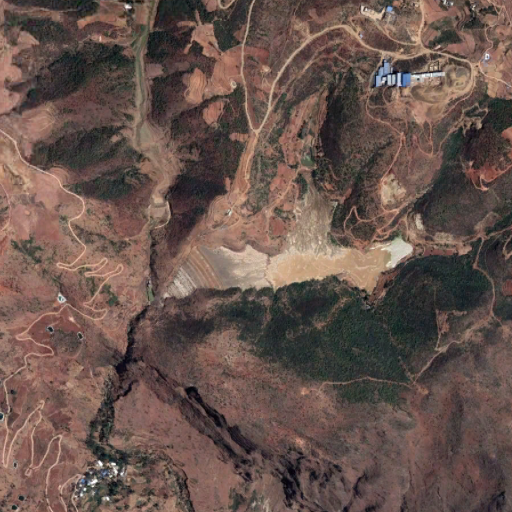tp: (162, 232, 417, 301)
